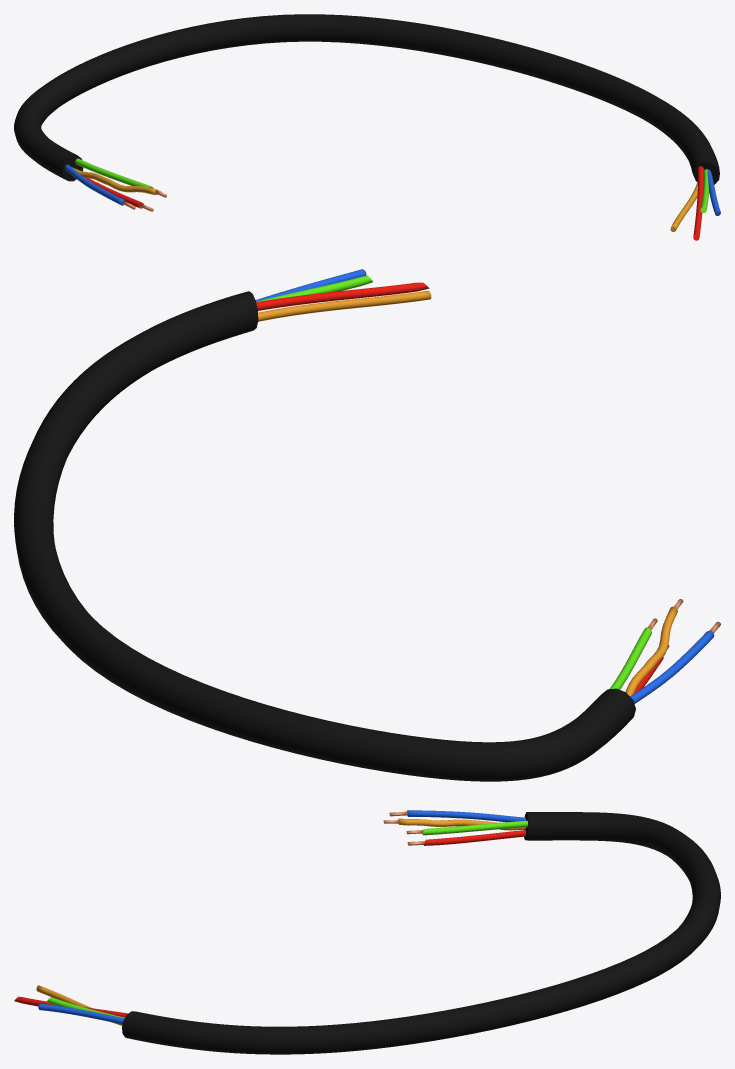
The model's file is WiresFinal.fbx.
3 renders of one model, top to bottom at view 1: azimuth 30°, elevation 25°; view 2: azimuth 150°, elevation 25°; view 3: azimuth 270°, elevation 25°, orthographic. The views are drawn at different scales.
Parts seen in each view (by area): view 1: Wires; view 2: Wires; view 3: Wires.
Part boxes in pixels (x1,y1,x2,y2): Wires: [14, 14, 720, 240]; Wires: [14, 269, 720, 781]; Wires: [14, 810, 720, 1054].
Size of the model in its own units: 38.92 by 3.83 by 46.05.
6 materials, 1 textured.
